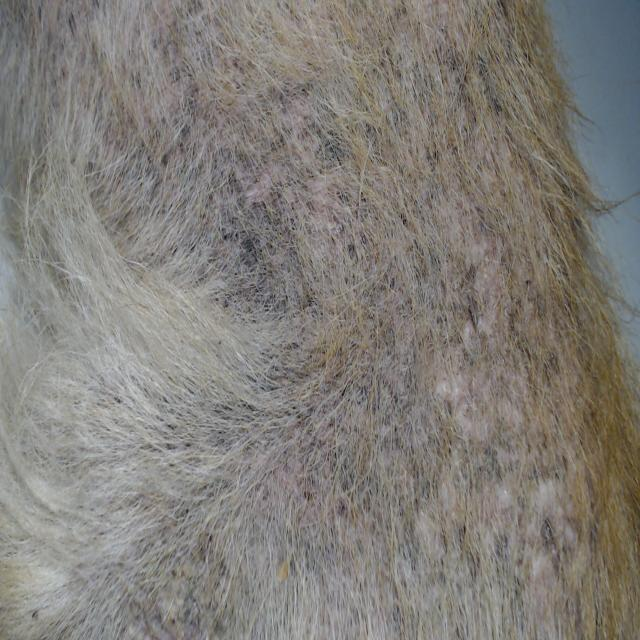demodicosis: (325, 122, 567, 556)
